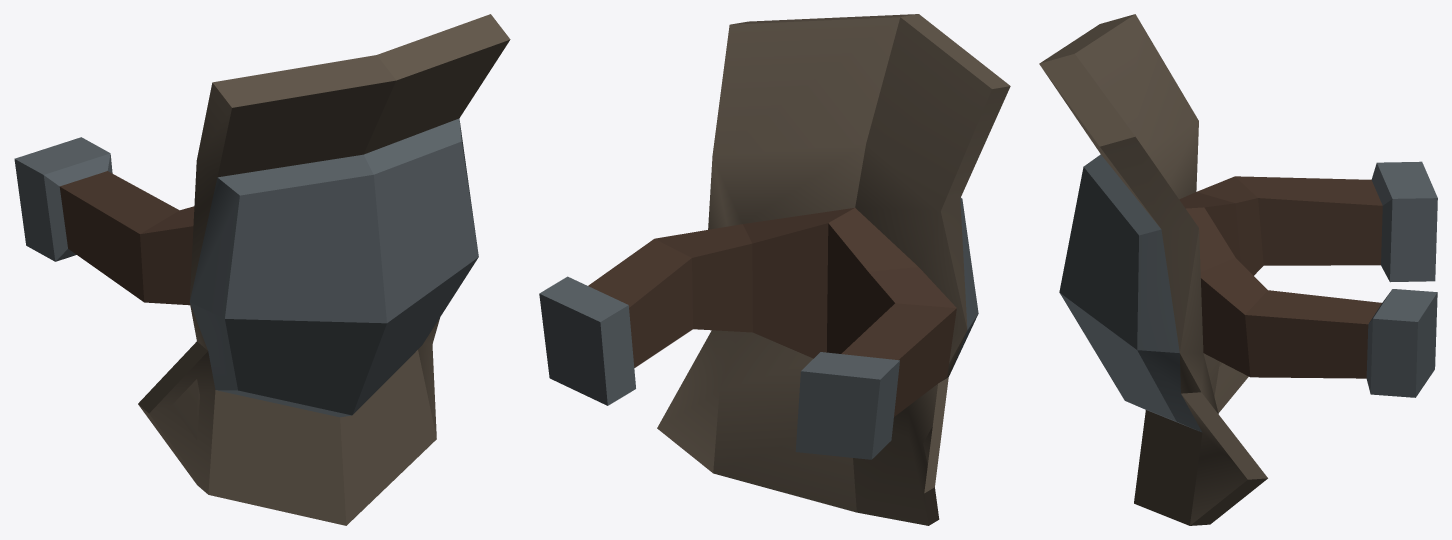
Rendered from Chr_KneeAttachRight_05_Static.fbx.
3 renders of one model, left to right at view 1: azimuth 30°, elevation 25°; view 2: azimuth 150°, elevation 25°; view 3: azimuth 270°, elevation 25°, orthographic. The views are drawn at different scales.
Visible parts, largest first — view 1: Chr_KneeAttachRight_05_Static; view 2: Chr_KneeAttachRight_05_Static; view 3: Chr_KneeAttachRight_05_Static.
Part boxes in pixels (left/top/right/bottom): Chr_KneeAttachRight_05_Static: left=14, top=14, right=510, bottom=525; Chr_KneeAttachRight_05_Static: left=539, top=14, right=1010, bottom=525; Chr_KneeAttachRight_05_Static: left=1039, top=14, right=1437, bottom=525.
Size of the model in its own units: 0.1454 by 0.189 by 0.1522.
